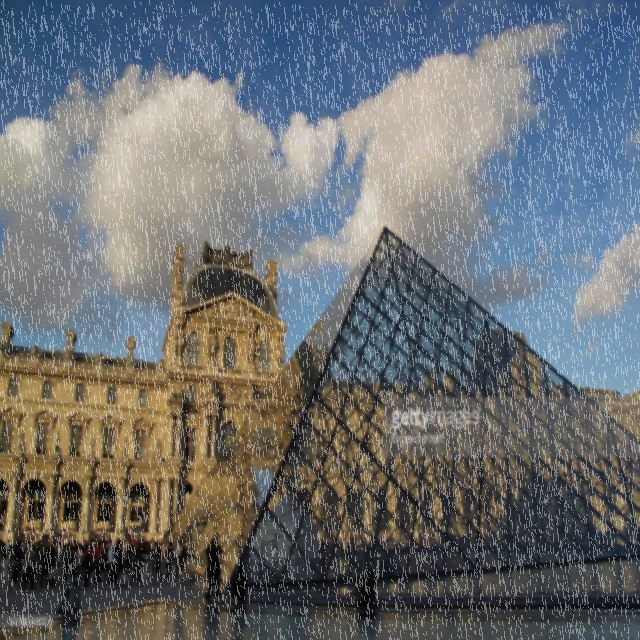pessoa: (169, 324, 285, 402), (354, 519, 638, 549), (8, 424, 164, 464), (353, 566, 384, 628), (55, 566, 82, 616), (202, 535, 222, 599), (200, 611, 244, 635), (225, 562, 248, 606), (56, 542, 74, 586), (22, 542, 38, 591), (128, 540, 144, 584), (342, 613, 382, 630), (130, 535, 163, 555), (38, 538, 51, 588), (106, 540, 118, 588), (316, 536, 329, 580), (10, 536, 22, 582), (90, 542, 102, 588), (122, 536, 134, 582), (164, 539, 177, 581), (65, 535, 114, 546), (48, 538, 58, 588), (80, 544, 91, 588), (344, 536, 356, 576), (5, 538, 16, 577), (151, 554, 164, 582), (326, 534, 344, 554), (178, 539, 188, 573), (102, 540, 110, 582), (76, 543, 84, 580), (8, 568, 22, 588), (175, 540, 182, 578), (21, 539, 41, 551), (116, 537, 124, 565), (0, 538, 6, 568), (70, 549, 76, 577), (24, 524, 37, 534), (23, 549, 28, 573), (56, 540, 64, 554), (122, 536, 130, 550), (56, 536, 64, 546), (6, 538, 12, 551), (187, 542, 192, 554), (166, 540, 170, 552)
